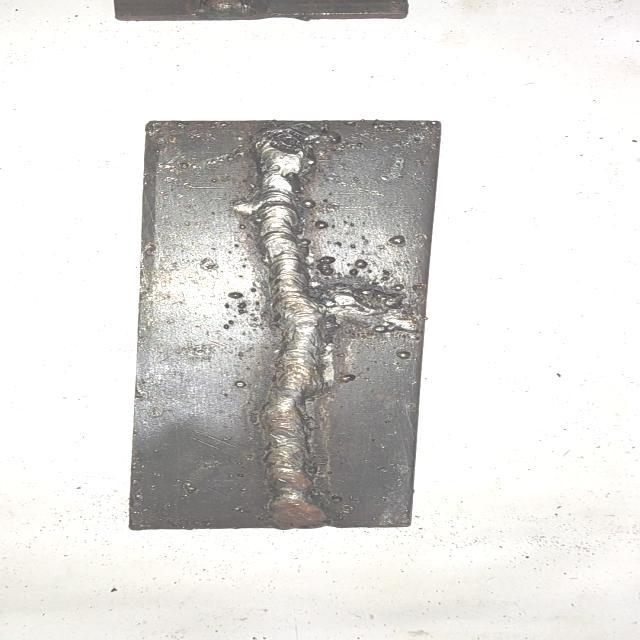Defect: (240, 272, 420, 340), (245, 122, 341, 160)
Welding Line: (254, 129, 328, 521)
Workpiece: (119, 116, 451, 534)
